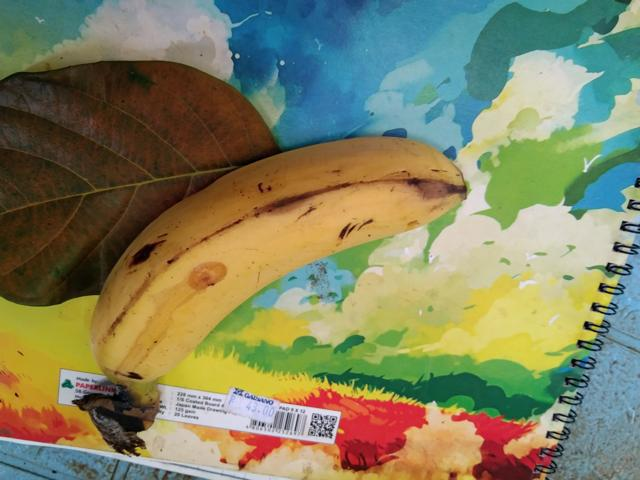ripe: (84, 123, 467, 384)
